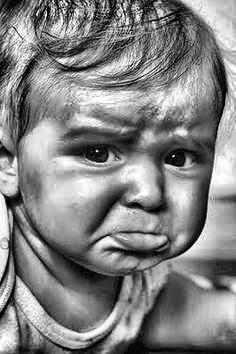sad: (17, 30, 222, 288)
